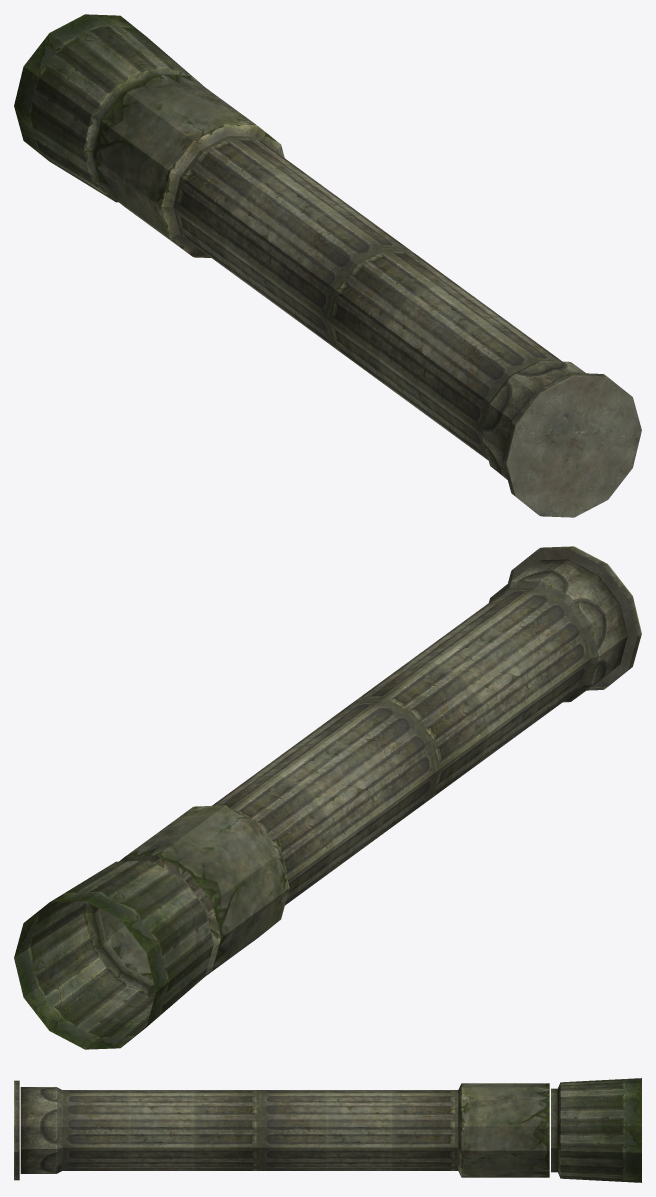
File: zhucheng_yewai_291_zhuzi_01_b.obj
3 views of the same model, one above another, from view 1: azimuth 30°, elevation 25°; view 2: azimuth 150°, elevation 25°; view 3: azimuth 270°, elevation 25° (orthographic). The views are drawn at different scales.
Parts seen in each view (by area): view 1: zhucheng_yewai_291_zhuzi_01_b; view 2: zhucheng_yewai_291_zhuzi_01_b; view 3: zhucheng_yewai_291_zhuzi_01_b.
Boxes of the visible parts, x1,y1,x2,y2 form: zhucheng_yewai_291_zhuzi_01_b: (14, 14, 641, 517); zhucheng_yewai_291_zhuzi_01_b: (14, 546, 641, 1049); zhucheng_yewai_291_zhuzi_01_b: (14, 1078, 641, 1182).
Bounding box in the file's own units: 352 × 352 × 2100.
7 materials, 7 textured.
